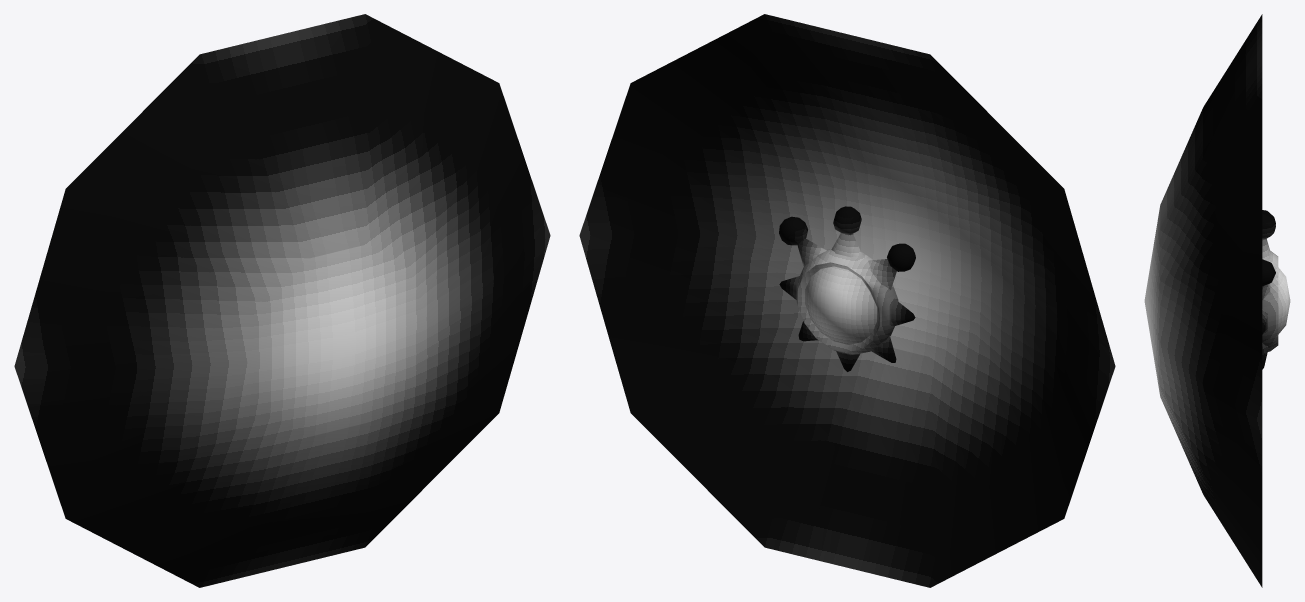
File: shine.dae
3 views of the same model, side by side, from view 1: azimuth 30°, elevation 25°; view 2: azimuth 150°, elevation 25°; view 3: azimuth 270°, elevation 25° (orthographic). The views are drawn at different scales.
Parts seen in each view (by area): view 1: n0b0; view 2: n0b0, n1b2; view 3: n0b0, n1b2.
Part boxes in pixels (x1,y1,x2,y2): n0b0: [14, 14, 550, 587]; n0b0: [579, 14, 1115, 587]; n1b2: [779, 206, 915, 371]; n0b0: [1144, 14, 1262, 587]; n1b2: [1262, 210, 1290, 369].
Bounding box in the file's own units: 562 × 535 × 142.
2 materials, 2 textured.
